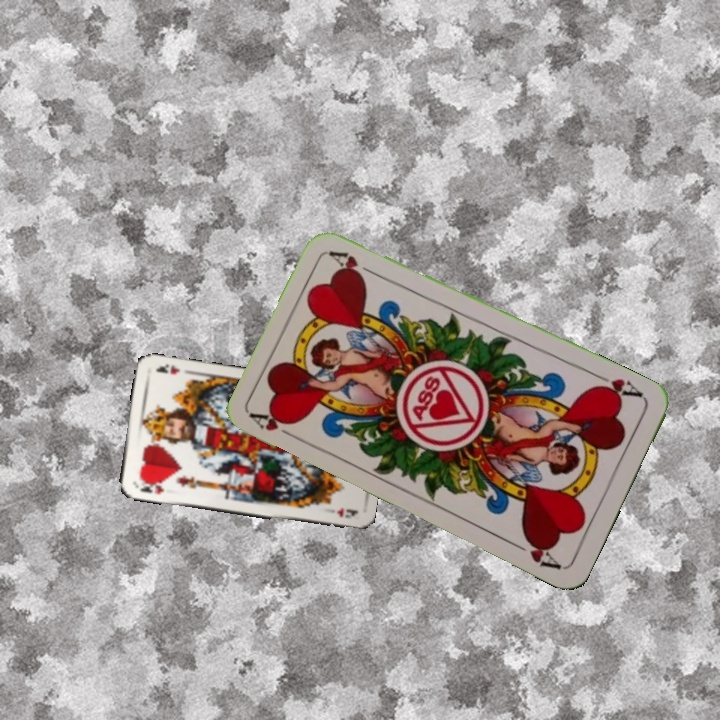HA: (248, 409, 304, 444), (588, 370, 646, 403)
HK: (134, 476, 167, 497)
